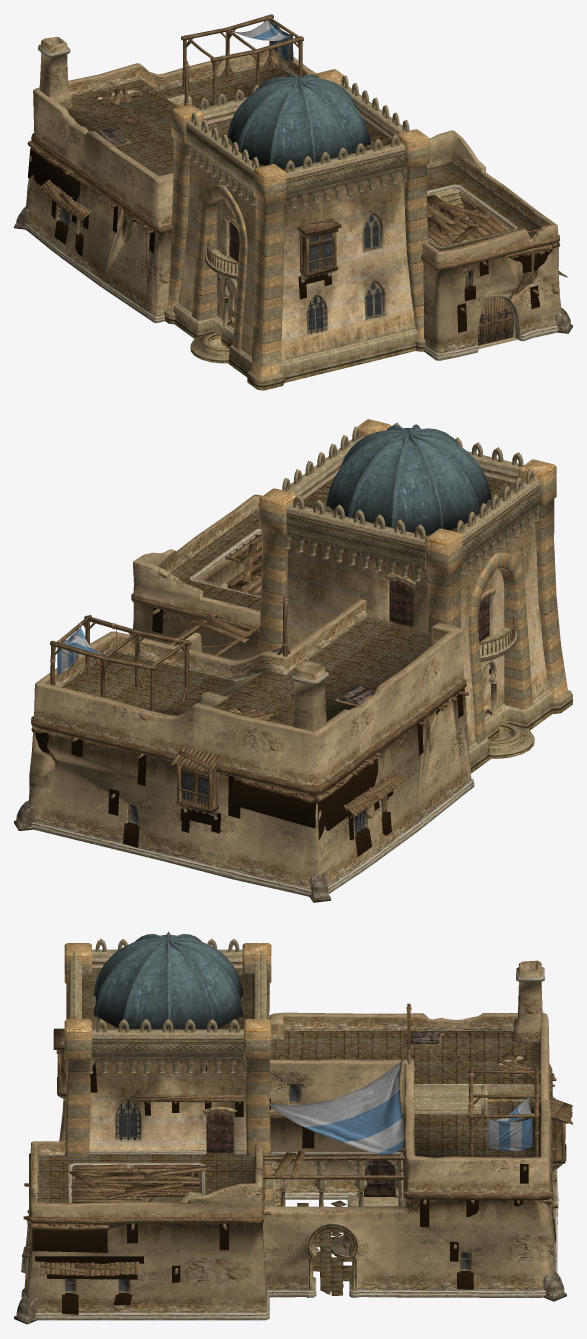
The model's file is oriental_houses_01_LOD1.obj.
3 renders of one model, top to bottom at view 1: azimuth 30°, elevation 25°; view 2: azimuth 150°, elevation 25°; view 3: azimuth 270°, elevation 25°, orthographic. The views are drawn at different scales.
Visible parts, largest first — view 1: oriental_houses_01_LOD1.obj; view 2: oriental_houses_01_LOD1.obj; view 3: oriental_houses_01_LOD1.obj.
Boxes of the visible parts, x1,y1,x2,y2 form: oriental_houses_01_LOD1.obj: [14, 14, 572, 390]; oriental_houses_01_LOD1.obj: [14, 419, 572, 902]; oriental_houses_01_LOD1.obj: [14, 931, 572, 1324].
Size of the model in its own units: 669 by 508 by 930.
19 materials, 19 textured.
